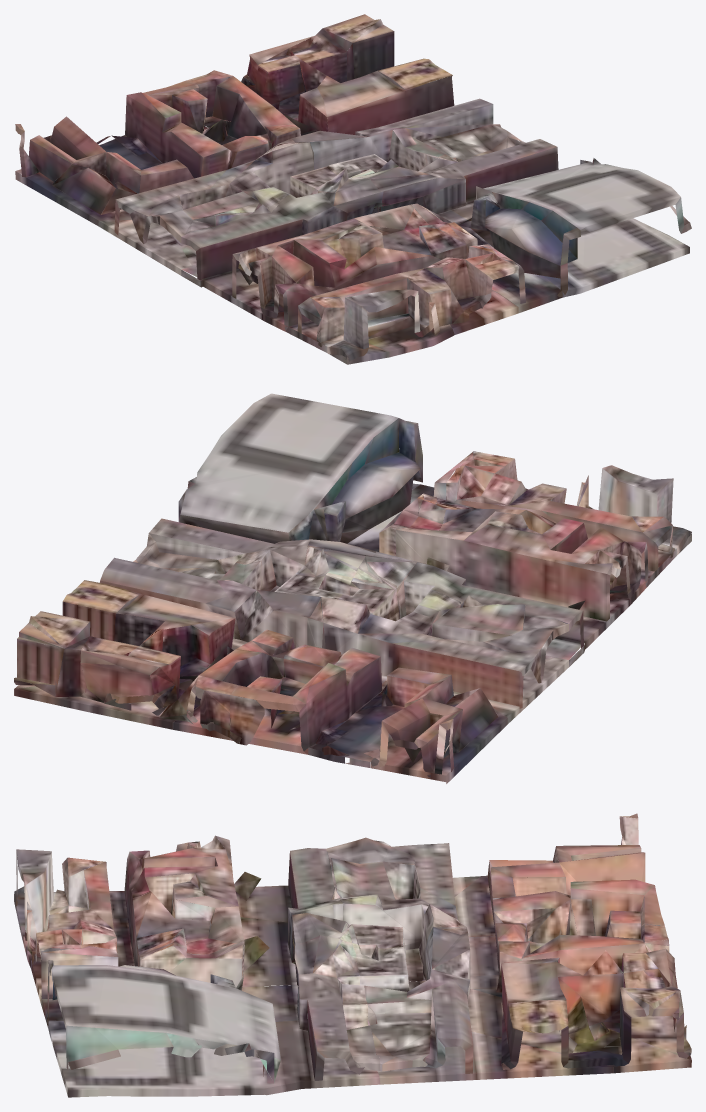
3 renders of one model, top to bottom at view 1: azimuth 30°, elevation 25°; view 2: azimuth 150°, elevation 25°; view 3: azimuth 270°, elevation 25°, orthographic. The views are drawn at different scales.
Parts seen in each view (by area): view 1: Mesh_0; view 2: Mesh_0; view 3: Mesh_0.
Part boxes in pixels (bbox=[...]): Mesh_0: bbox=[15, 14, 691, 364]; Mesh_0: bbox=[14, 393, 691, 783]; Mesh_0: bbox=[14, 813, 691, 1097].
Bounding box in the file's own units: 269 × 43.5 × 330.
Materials: 2 (2 with a texture image).
